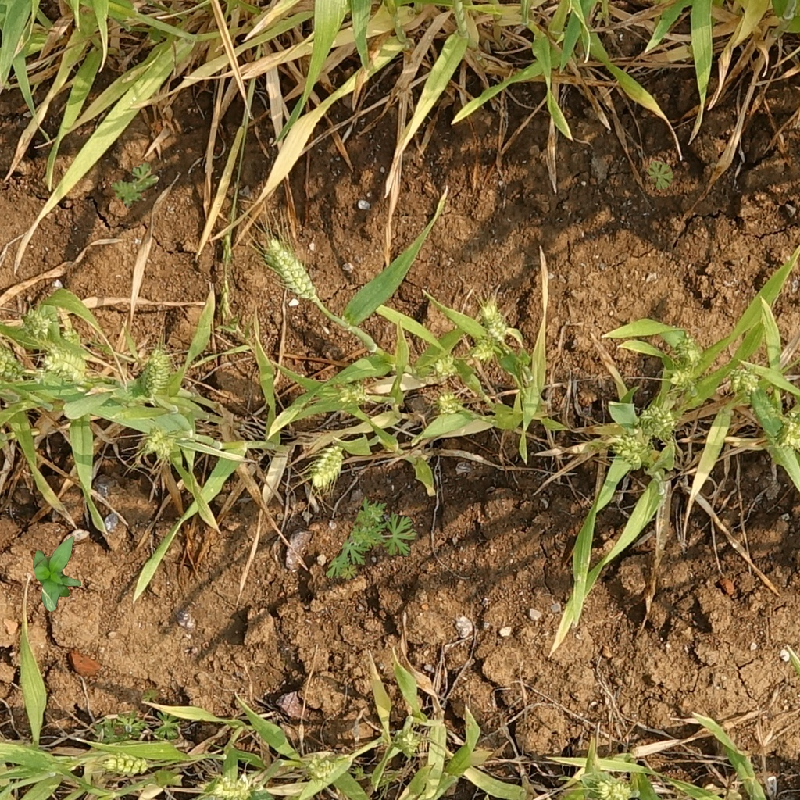spikelet: (263, 234, 320, 303), (137, 344, 175, 398), (39, 345, 90, 385), (308, 441, 346, 491), (140, 424, 182, 463), (610, 428, 651, 467), (100, 748, 150, 778), (477, 299, 510, 344), (638, 401, 677, 439), (726, 360, 763, 400), (202, 772, 256, 799), (300, 748, 337, 780), (20, 305, 54, 339), (335, 379, 370, 409), (595, 773, 634, 799), (674, 333, 705, 364), (428, 351, 460, 381), (1, 343, 25, 382), (433, 388, 465, 417), (393, 726, 421, 758), (778, 416, 800, 453)
weed: (326, 495, 418, 580), (33, 536, 81, 612), (111, 162, 159, 209), (645, 156, 678, 193)
